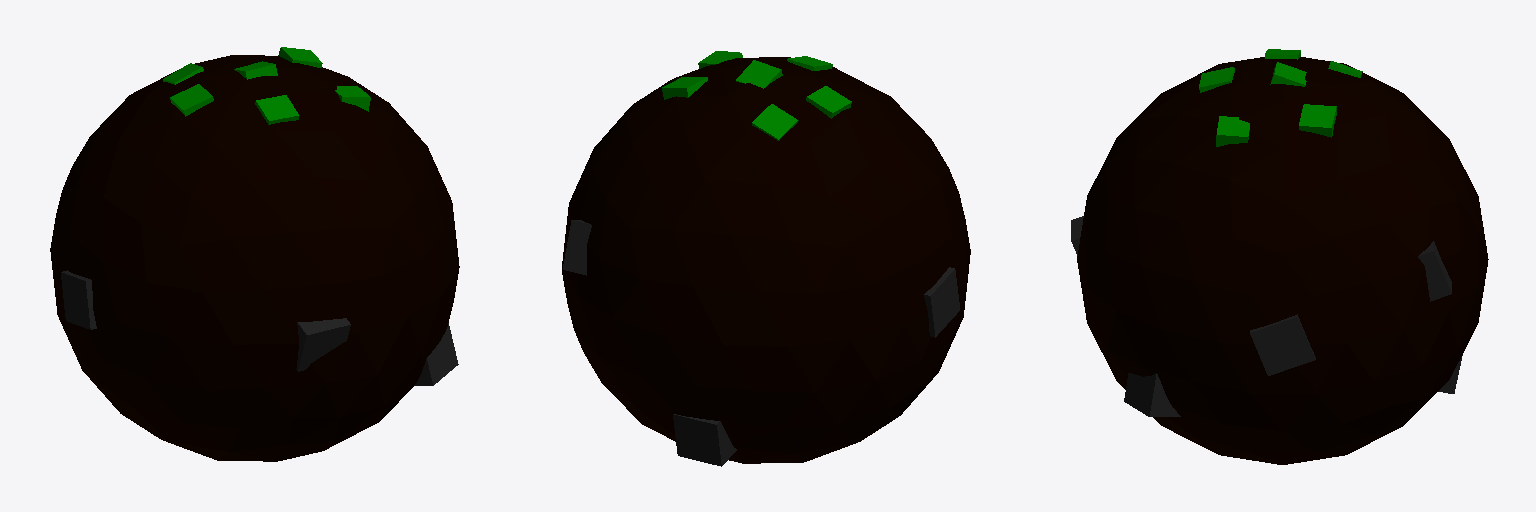
File: dirt.obj
3 renders of one model, left to right at view 1: azimuth 30°, elevation 25°; view 2: azimuth 150°, elevation 25°; view 3: azimuth 270°, elevation 25°, orthographic.
Visible parts, largest first — view 1: Icosphere; view 2: Icosphere; view 3: Icosphere.
Part boxes in pixels (x1,y1,x2,y2): Icosphere: (50, 47, 459, 461); Icosphere: (562, 51, 970, 466); Icosphere: (1071, 49, 1488, 464).
Bounding box in the file's own units: 2.01 × 2.04 × 2.03.